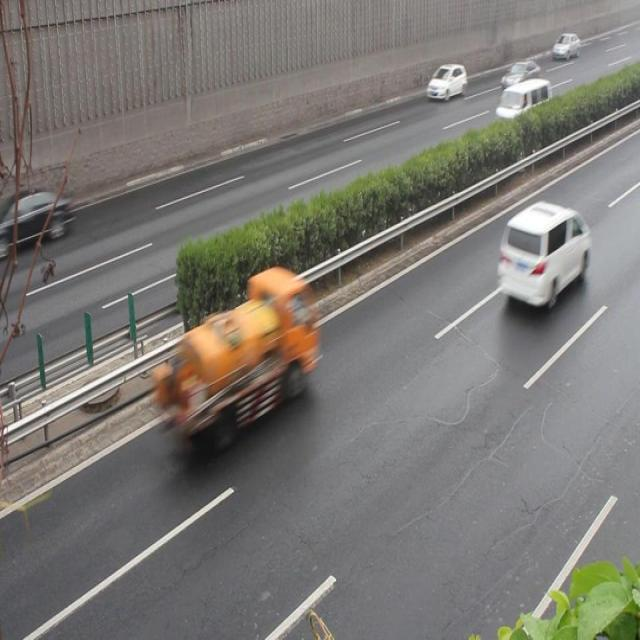bus: (168, 267, 320, 436)
car: (498, 198, 590, 306), (1, 190, 73, 253), (426, 62, 466, 101), (499, 58, 538, 95)
truck: (492, 80, 553, 130)
